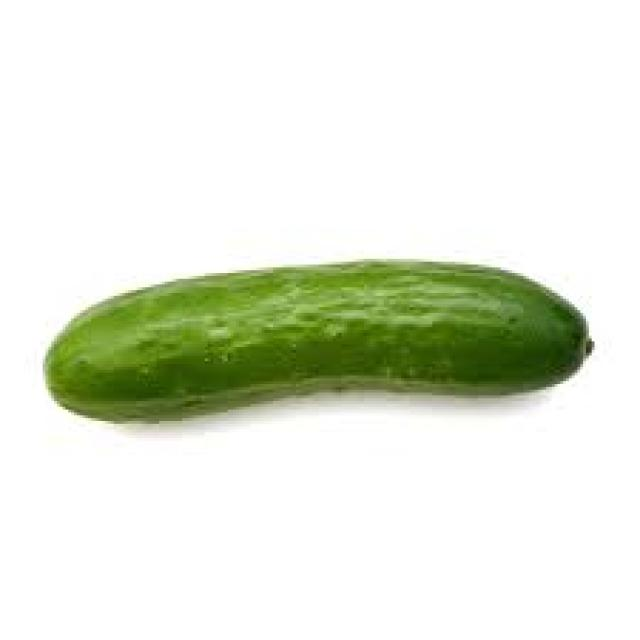cucumber: (40, 256, 594, 424)
